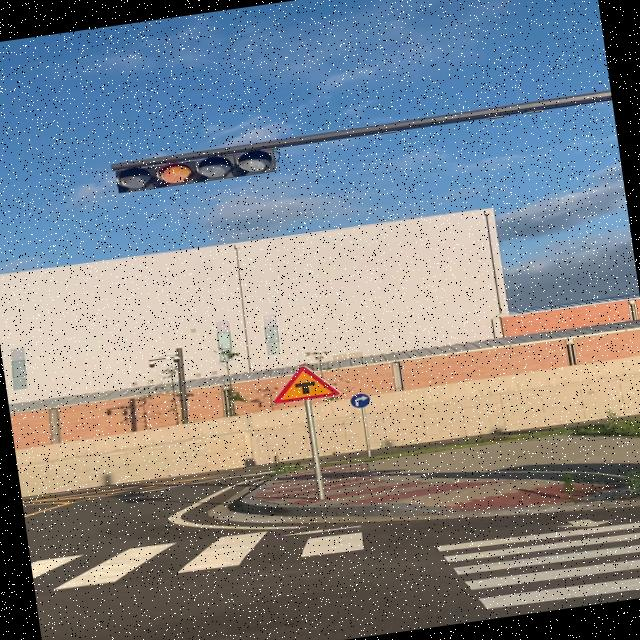yellow_light: (115, 146, 278, 194)
